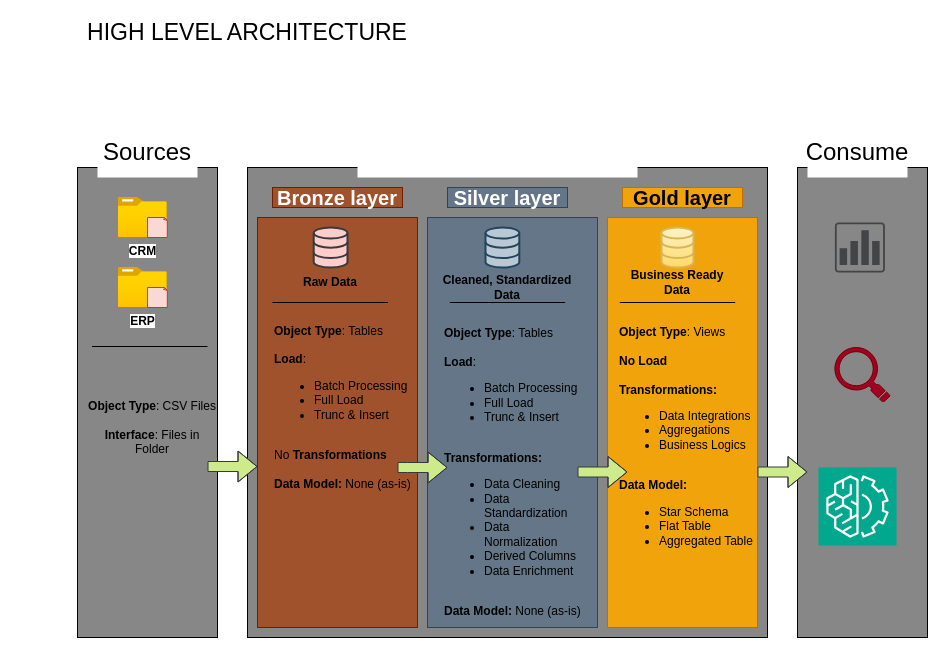
Image size: 945x655. Some labels were removed from this diagram. Here are the shapes that lost their labels. From the top down, the box of each, then its label:
(357, 127, 637, 177): Data Warehouse
(834, 222, 884, 272): BI & Reporting
(834, 346, 890, 402): Ad-Hoc SQL Queries
(818, 466, 896, 546): Machine Learning
